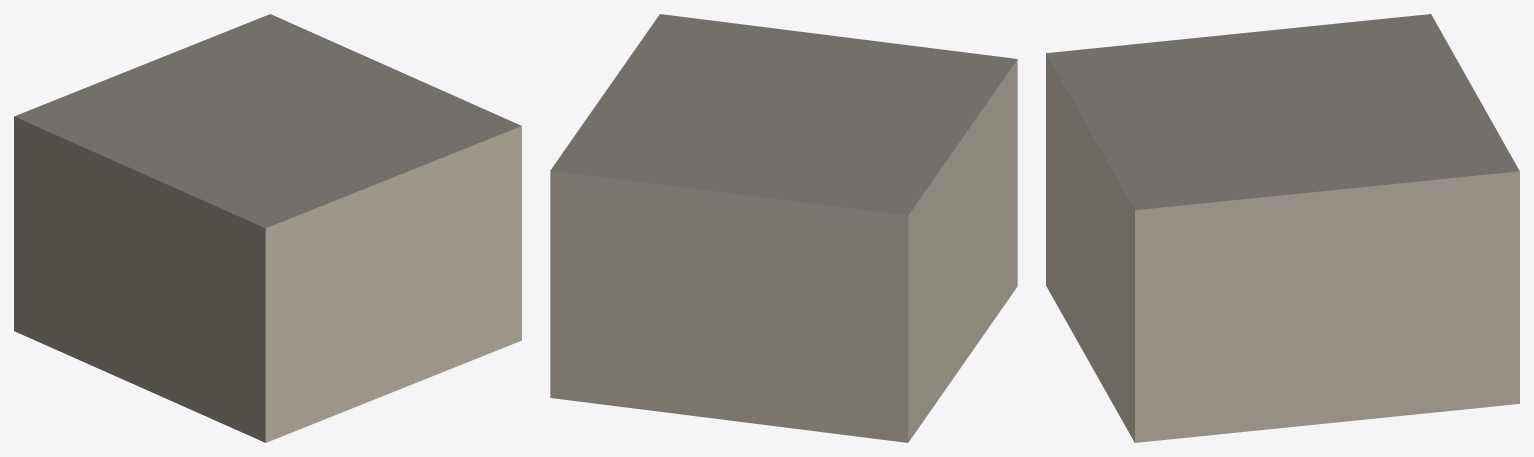
The picture shows the model from 3 angles, left to right: view 1: azimuth 30°, elevation 25°; view 2: azimuth 150°, elevation 25°; view 3: azimuth 270°, elevation 25°; orthographic projection. The views are drawn at different scales.
Parts seen in each view (by area): view 1: HP-w1200750003; view 2: HP-w1200750003; view 3: HP-w1200750003.
Boxes of the visible parts, bbox=[...] form: HP-w1200750003: bbox=[14, 14, 521, 442]; HP-w1200750003: bbox=[550, 14, 1017, 442]; HP-w1200750003: bbox=[1046, 14, 1519, 442].
Bounding box in the file's own units: 21.72 × 12 × 22.14.
